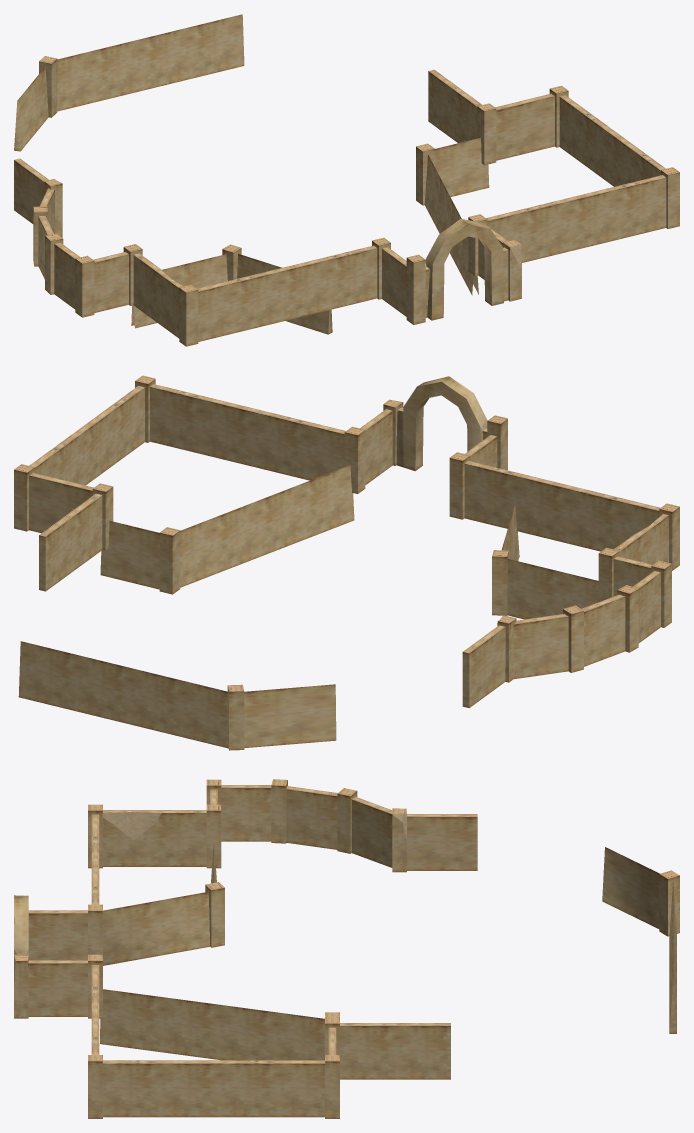
The model's file is poi_tato_farm_64x64_s01_l1.fbx.
3 renders of one model, top to bottom at view 1: azimuth 30°, elevation 25°; view 2: azimuth 150°, elevation 25°; view 3: azimuth 270°, elevation 25°, orthographic. The views are drawn at different scales.
Visible parts, largest first — view 1: mesh_node; view 2: mesh_node; view 3: mesh_node.
Part boxes in pixels (x1=…): mesh_node: x1=14, y1=14, x2=679, y2=346; mesh_node: x1=14, y1=375, x2=679, y2=750; mesh_node: x1=14, y1=779, x2=679, y2=1118.
Bounding box in the file's own units: 45.06 × 9 × 44.96.
